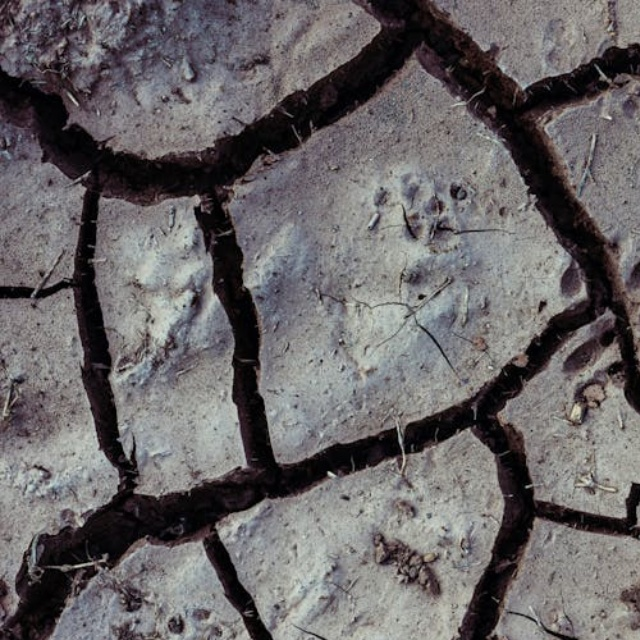深大裂缝: (0, 0, 640, 352), (0, 361, 640, 576)
